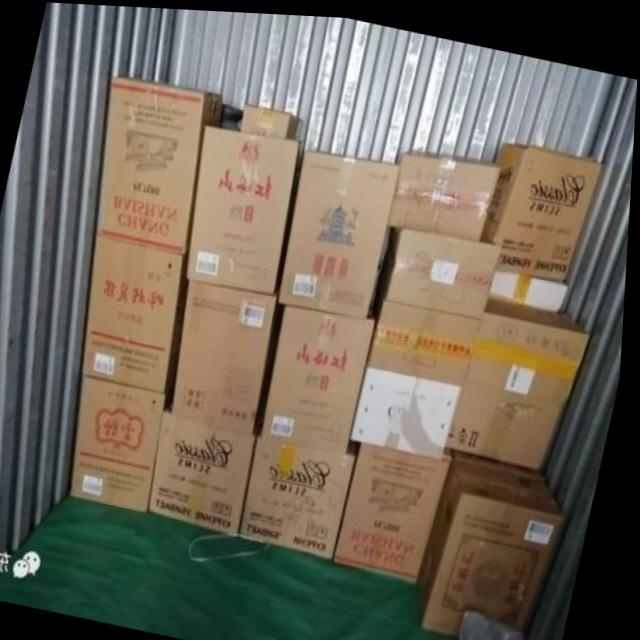box: (424, 453, 570, 631), (451, 290, 595, 462), (99, 76, 225, 252), (281, 148, 402, 314), (190, 124, 301, 292), (87, 232, 193, 392), (483, 137, 605, 275), (266, 302, 379, 450), (340, 438, 457, 579), (176, 277, 281, 433), (246, 434, 361, 557), (76, 373, 179, 510), (155, 403, 262, 533), (387, 222, 504, 313), (390, 147, 503, 237), (355, 363, 467, 453), (371, 295, 485, 380), (493, 266, 571, 306), (241, 101, 301, 136)
